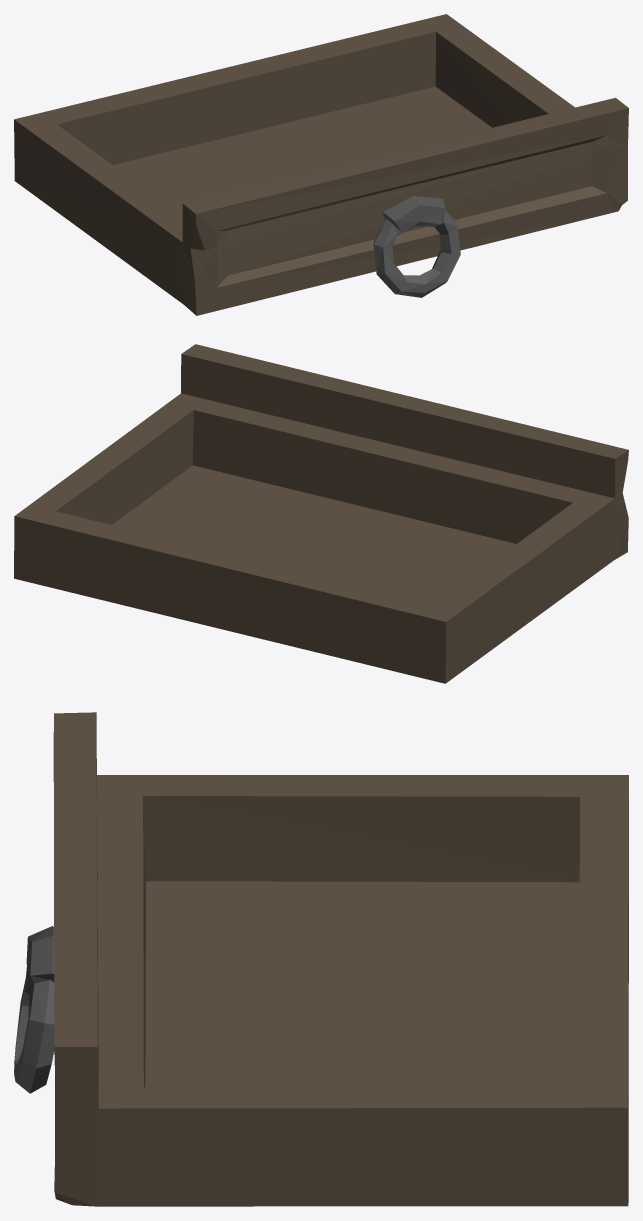
Rendered from SFHW_Desk_Cabinet_004.fbx.
3 views of the same model, one above another, from view 1: azimuth 30°, elevation 25°; view 2: azimuth 150°, elevation 25°; view 3: azimuth 270°, elevation 25° (orthographic). The views are drawn at different scales.
Parts seen in each view (by area): view 1: SFHW_Desk_Cabinet_004; view 2: SFHW_Desk_Cabinet_004; view 3: SFHW_Desk_Cabinet_004.
Part boxes in pixels (<box>): SFHW_Desk_Cabinet_004: <box>14,14,628,315</box>; SFHW_Desk_Cabinet_004: <box>14,344,628,683</box>; SFHW_Desk_Cabinet_004: <box>14,712,628,1206</box>.
Size of the model in its own units: 59.14 by 17.14 by 45.98.
